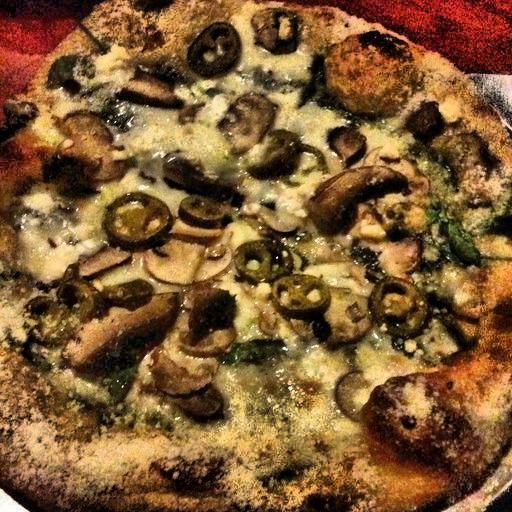pizza: (2, 3, 512, 512)
